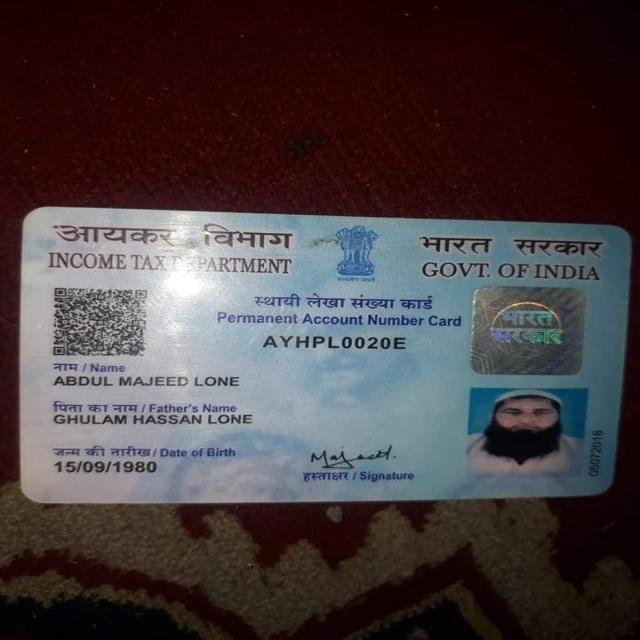pan_card: (32, 215, 627, 502)
